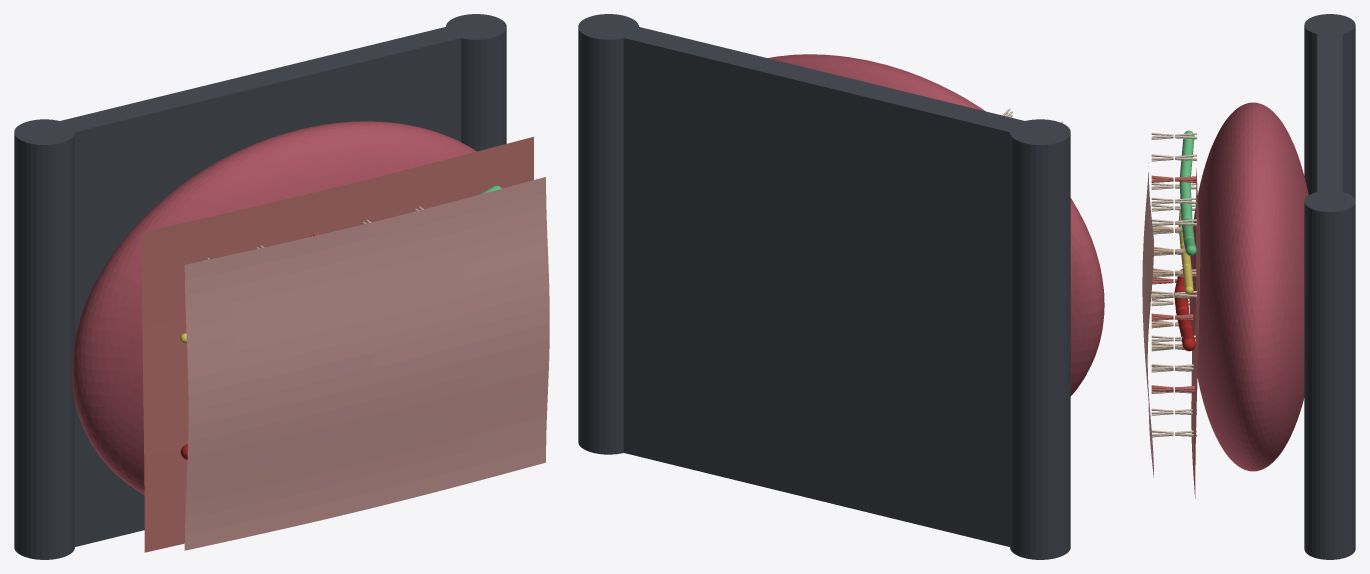
Rendered from dranmar_safeplane_tissue_initial.glb.
3 views of the same model, side by side, from view 1: azimuth 30°, elevation 25°; view 2: azimuth 150°, elevation 25°; view 3: azimuth 270°, elevation 25° (orthographic). The views are drawn at different scales.
Visible parts, largest first — view 1: SuperficialFlap, Fixture, ProtectedOrgan, TargetBed; view 2: Fixture, ProtectedOrgan; view 3: ProtectedOrgan, Fixture, SuperficialFlap, TargetBed, DuctLeft, VesselRight, NerveRight, DuctRight, VesselLeft.
Part boxes in pixels (box(x1,y1,x2,y2)): SuperficialFlap: box(184, 177, 549, 550); Fixture: box(14, 14, 506, 559); ProtectedOrgan: box(72, 121, 476, 494); TargetBed: box(141, 136, 533, 552); Fixture: box(578, 14, 1070, 559); ProtectedOrgan: box(768, 54, 1104, 396); ProtectedOrgan: box(1189, 102, 1308, 471); Fixture: box(1304, 14, 1355, 559); SuperficialFlap: box(1142, 162, 1153, 477); TargetBed: box(1191, 168, 1200, 498); DuctLeft: box(1179, 130, 1194, 220); VesselRight: box(1176, 309, 1195, 351); NerveRight: box(1181, 245, 1193, 294); DuctRight: box(1182, 218, 1196, 255); VesselLeft: box(1174, 269, 1189, 313).
Size of the model in its own units: 0.22 by 0.18 by 0.1.
